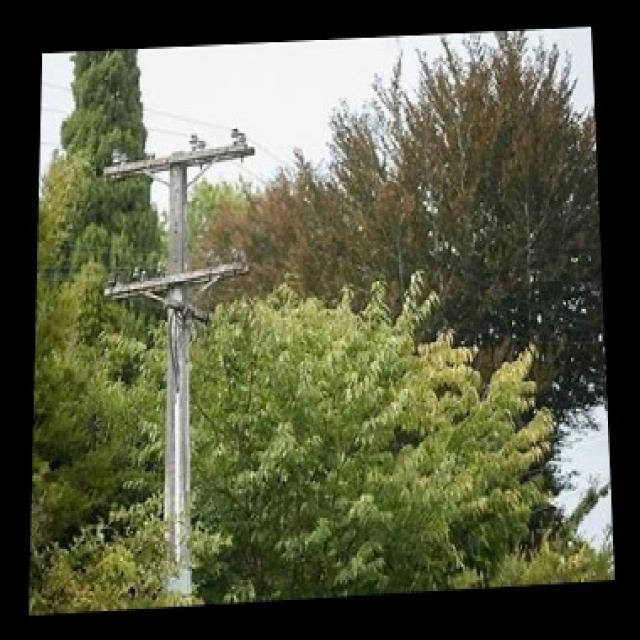utility poles: (89, 87, 237, 602)
